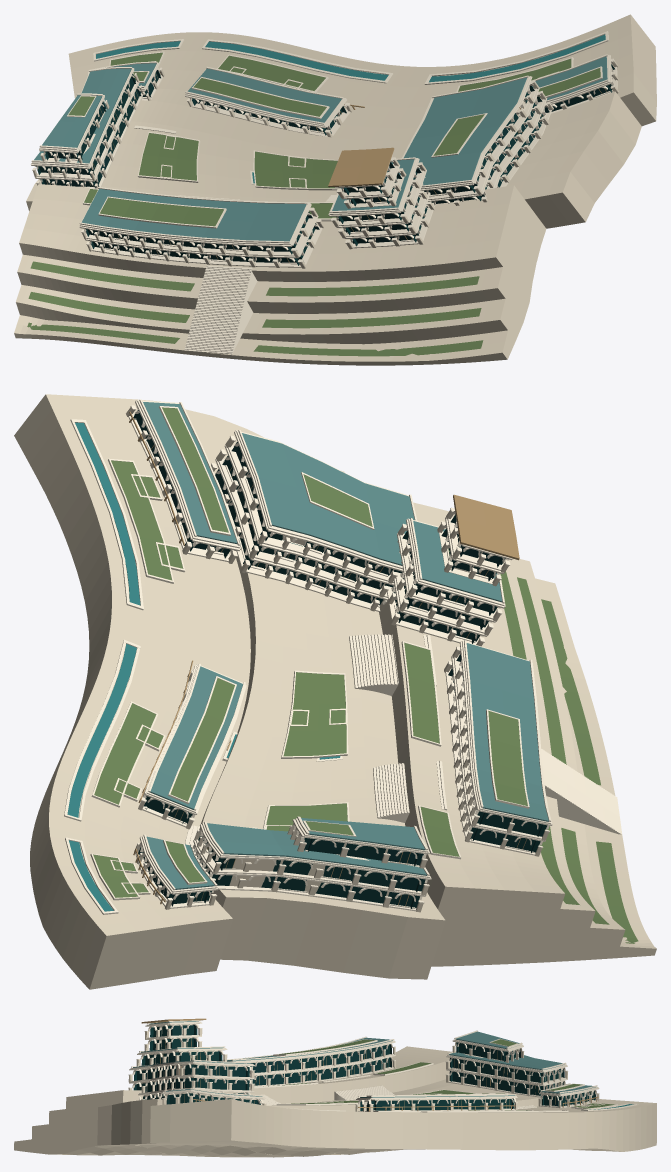
The model's file is oriel-garden-quarter.glb.
3 views of the same model, one above another, from view 1: azimuth 30°, elevation 25°; view 2: azimuth 150°, elevation 25°; view 3: azimuth 270°, elevation 25° (orthographic). The views are drawn at different scales.
Visible parts, largest first — view 1: gardenQuarter__warm_limestone, gardenQuarter__pale_honed_coping, gardenQuarter__deep_planted_garden_soil, gardenQuarter__teal_patinated_roofs, gardenQuarter__blue-green_glazing_and_channel, gardenQuarter__bronze_public_fittings; view 2: gardenQuarter__warm_limestone, gardenQuarter__pale_honed_coping, gardenQuarter__deep_planted_garden_soil, gardenQuarter__teal_patinated_roofs, gardenQuarter__blue-green_glazing_and_channel, gardenQuarter__bronze_public_fittings; view 3: gardenQuarter__warm_limestone, gardenQuarter__pale_honed_coping, gardenQuarter__blue-green_glazing_and_channel, gardenQuarter__teal_patinated_roofs, gardenQuarter__deep_planted_garden_soil, gardenQuarter__bronze_public_fittings.
Part boxes in pixels (x1,y1,x2,y2): gardenQuarter__warm_limestone: (14,14,656,365); gardenQuarter__pale_honed_coping: (31,31,617,354); gardenQuarter__deep_planted_garden_soil: (27,52,600,356); gardenQuarter__teal_patinated_roofs: (34,56,607,241); gardenQuarter__blue-green_glazing_and_channel: (36,34,614,265); gardenQuarter__bronze_public_fittings: (46,72,606,262); gardenQuarter__warm_limestone: (14,394,656,989); gardenQuarter__pale_honed_coping: (64,399,622,914); gardenQuarter__deep_planted_garden_soil: (93,407,638,943); gardenQuarter__teal_patinated_roofs: (143,402,548,889); gardenQuarter__blue-green_glazing_and_channel: (67,410,547,911); gardenQuarter__bronze_public_fittings: (129,411,526,906); gardenQuarter__warm_limestone: (14,1024,656,1157); gardenQuarter__pale_honed_coping: (128,1020,638,1112); gardenQuarter__blue-green_glazing_and_channel: (133,1025,633,1110); gardenQuarter__teal_patinated_roofs: (133,1021,595,1097); gardenQuarter__deep_planted_garden_soil: (263,1039,614,1110); gardenQuarter__bronze_public_fittings: (141,1018,598,1111).
Size of the model in its own units: 449 by 185 by 533.
